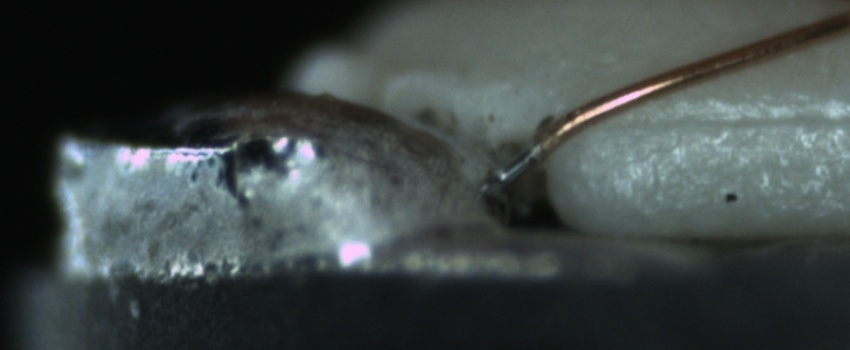DL: (617, 86, 847, 157)
TS: (493, 142, 543, 183)
TTCW: (492, 119, 563, 190)
